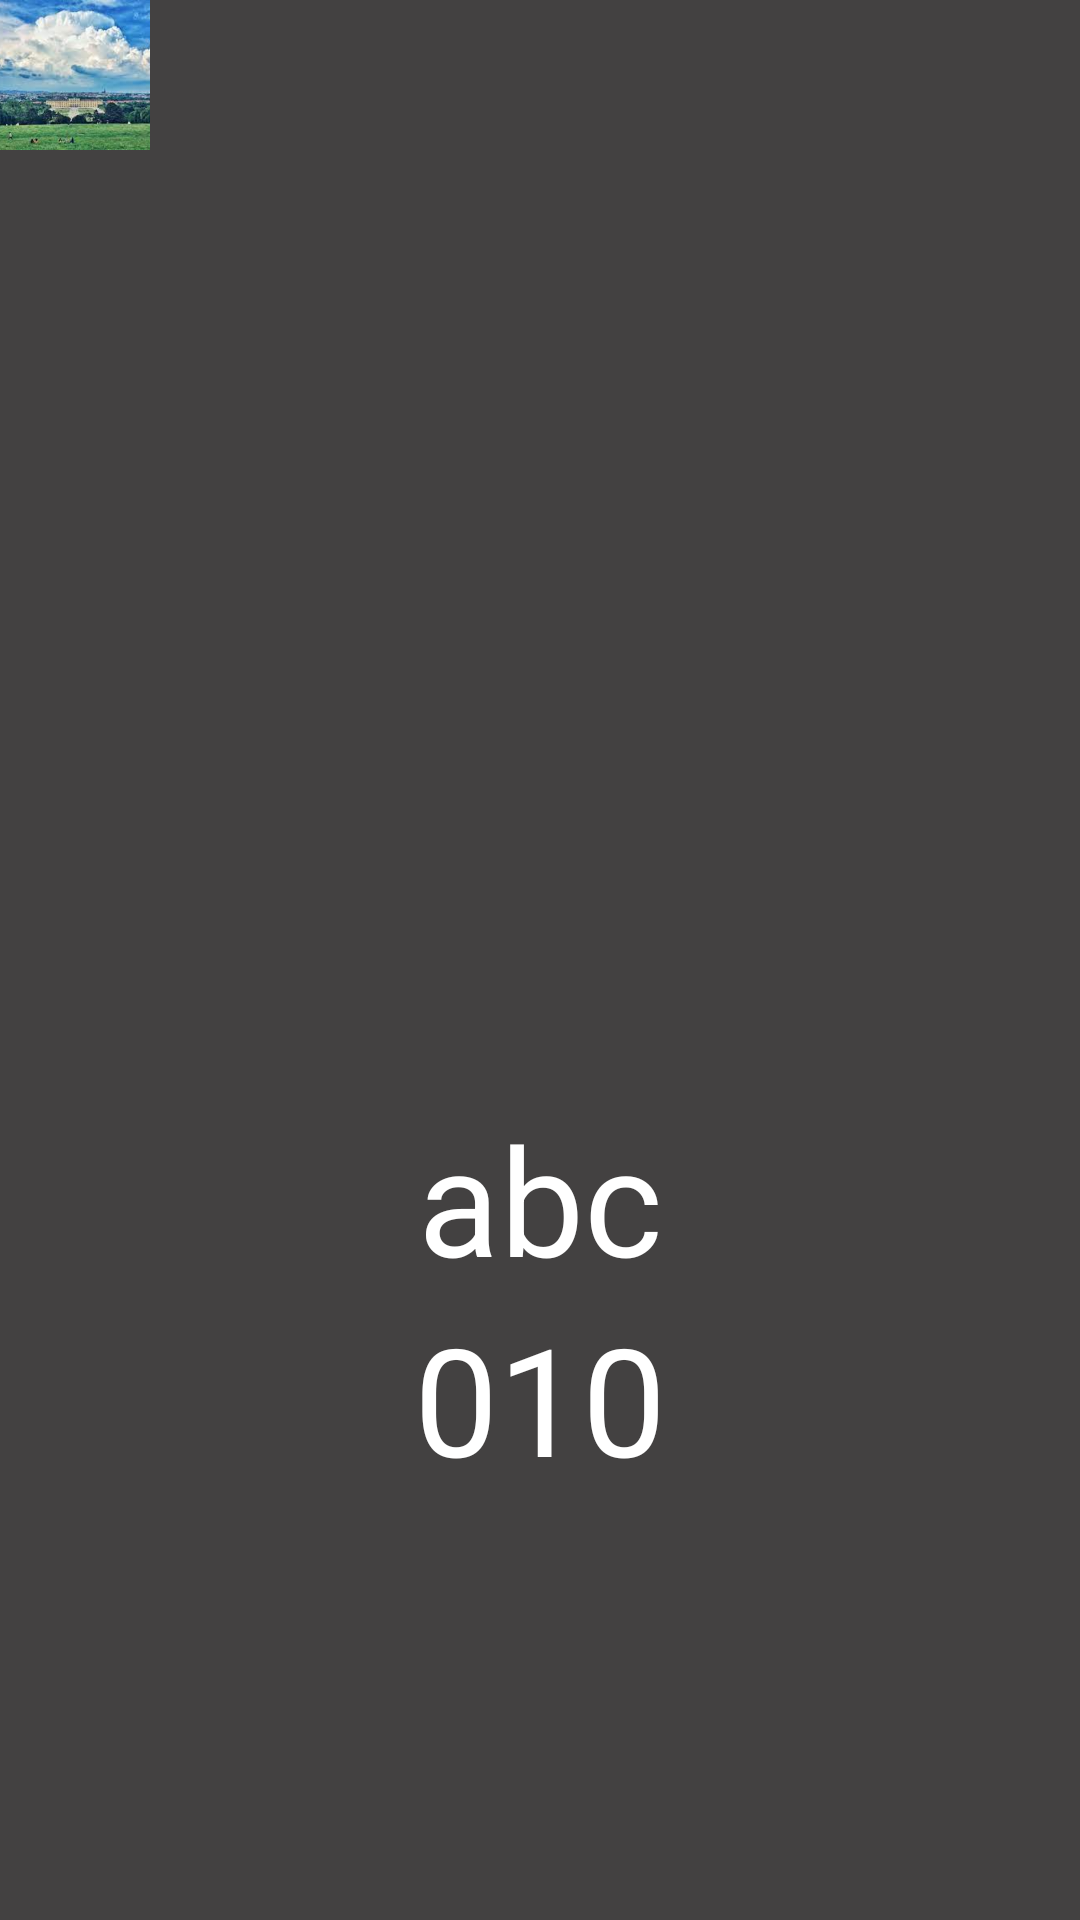

Icon click points for this 1080 x 1920 phone screenshot, format [x,y]:
sky: [75,75]
